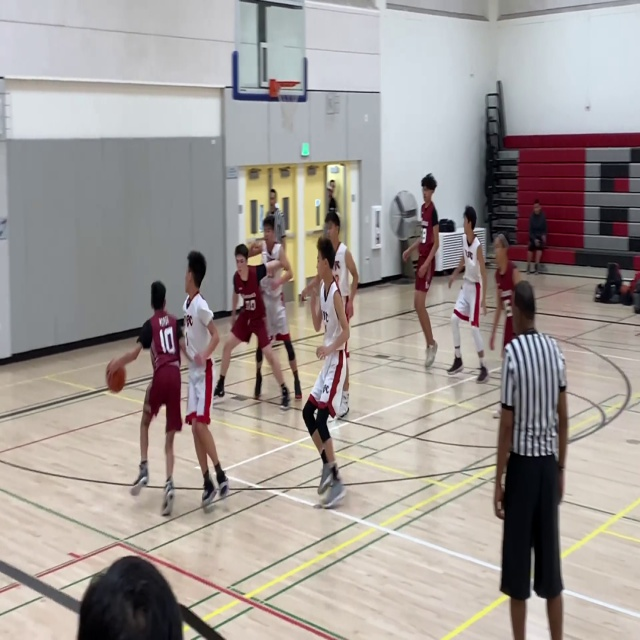Basketball: (105, 359, 126, 393)
